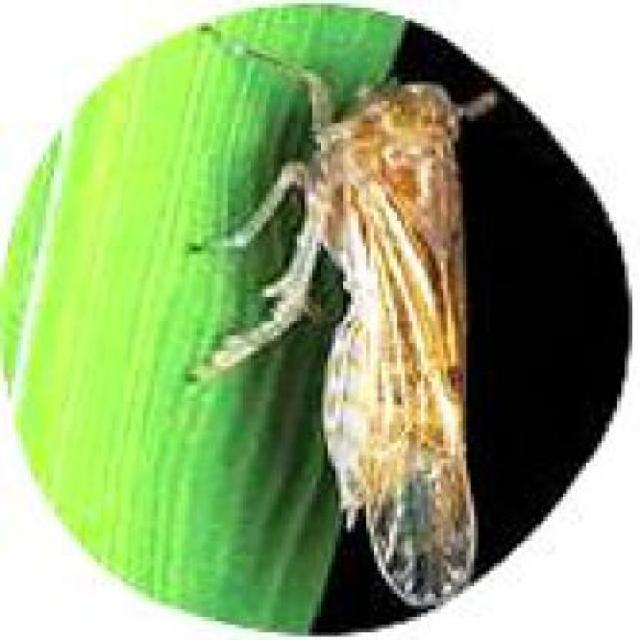brown-planthopper: (282, 57, 482, 612)
